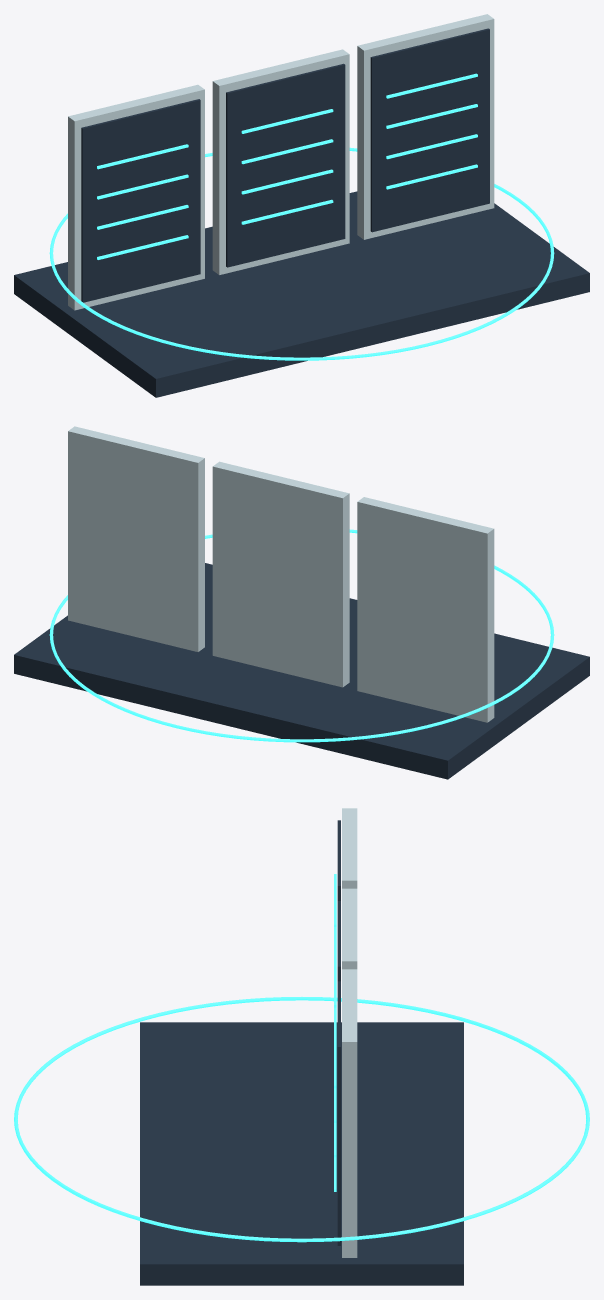
File: studio.glb
3 views of the same model, one above another, from view 1: azimuth 30°, elevation 25°; view 2: azimuth 150°, elevation 25°; view 3: azimuth 270°, elevation 25° (orthographic). The views are drawn at different scales.
Parts seen in each view (by area): view 1: Observatory_base, Window_display.001, Window_display.002, Window_display, Window_frame.001, Window_frame.002, Window_frame, Observatory_signal; view 2: Observatory_base, Window_frame.001, Window_frame, Window_frame.002, Observatory_signal; view 3: Observatory_base, Observatory_signal, Window_frame.002, Window_frame.001, Window_frame, Window_display.002.
Boxes of the visible parts, x1,y1,x2,y2 form: Observatory_base: (14,191,589,397); Window_display.001: (226,63,345,267); Window_display.002: (370,28,489,232); Window_display: (81,99,200,302); Window_frame.001: (212,49,349,274); Window_frame.002: (357,14,494,239); Window_frame: (68,84,204,310); Observatory_signal: (49,147,554,360); Observatory_base: (14,563,589,779); Window_frame.001: (212,461,349,687); Window_frame: (357,497,494,722); Window_frame.002: (68,426,204,651); Observatory_signal: (49,529,554,742); Observatory_base: (140,1022,463,1285); Observatory_signal: (14,997,589,1242); Window_frame.002: (342,969,357,1257); Window_frame.001: (342,888,357,969); Window_frame: (342,808,357,888); Window_display.002: (337,981,340,1245).
Size of the model in its own units: 6.04 by 2.78 by 6.04.
